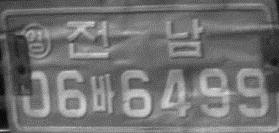0: (19, 72, 52, 118)
4: (159, 68, 191, 117)
6: (55, 69, 87, 118), (120, 69, 152, 118)
9: (198, 67, 231, 119), (235, 68, 269, 118)
바: (89, 74, 118, 114)
영: (19, 22, 53, 60)
전남_D: (65, 18, 204, 60)
